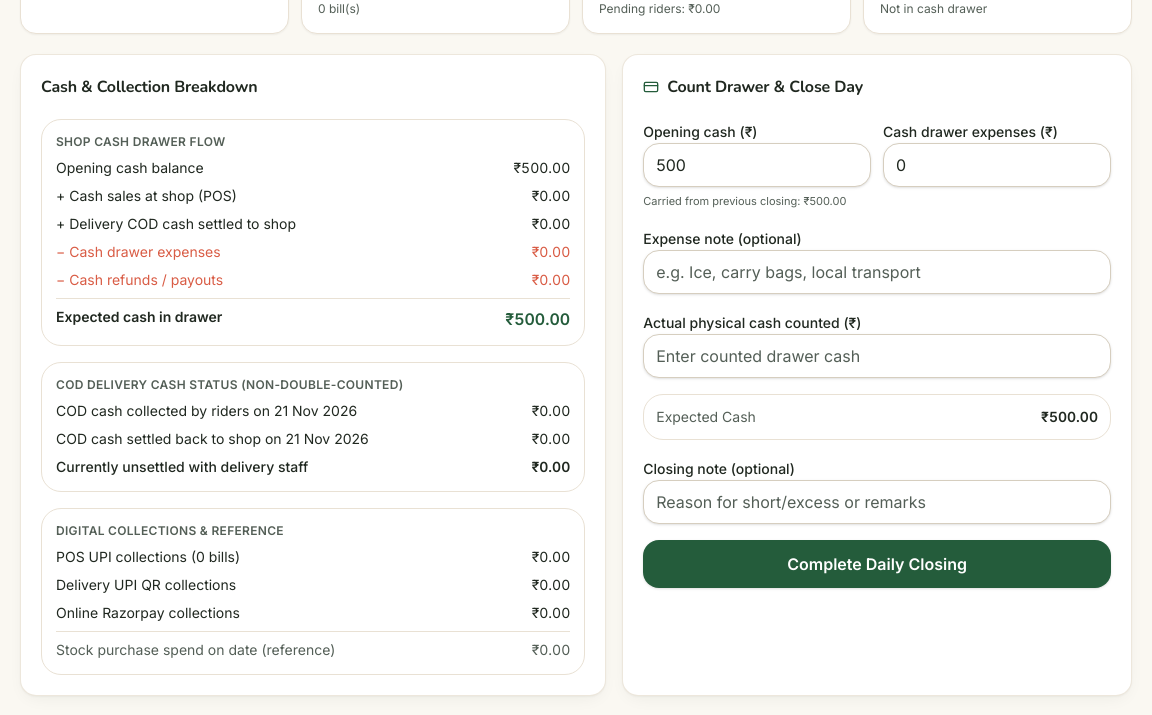
Scenario: CashClosingPage › shows empty state when there are no transactions and validates negative cash counted
(page scrolled)
Type "-10" into the number field labelled "Actual physical cash counted (₹)" at (877, 356), box [643, 334, 1111, 378]
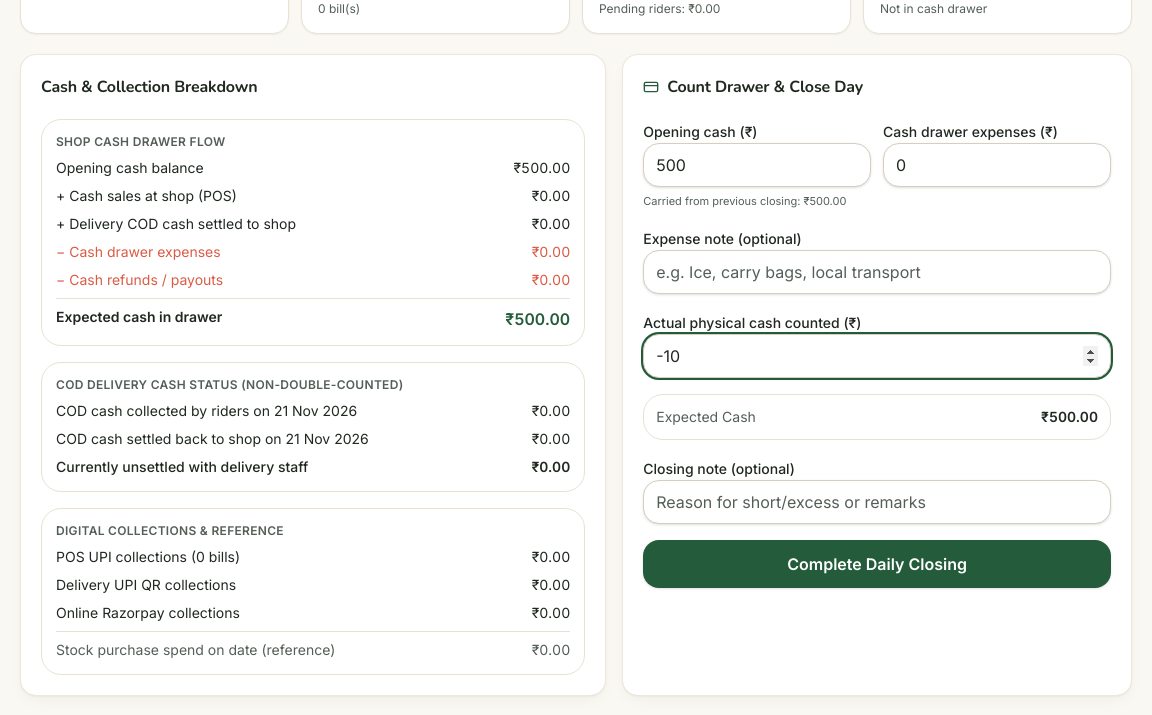
Click the button "Complete Daily Closing" at (877, 564), box [643, 540, 1111, 588]
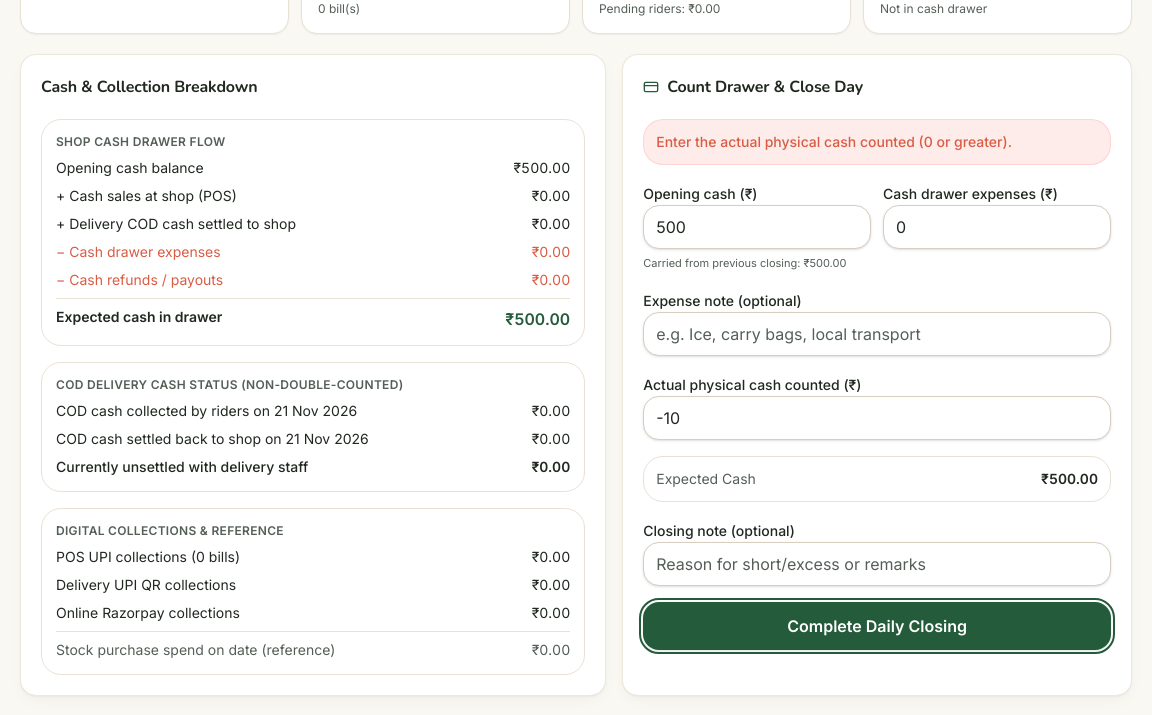
Expected: the message shows "0 or greater", [656, 133, 1012, 150]
